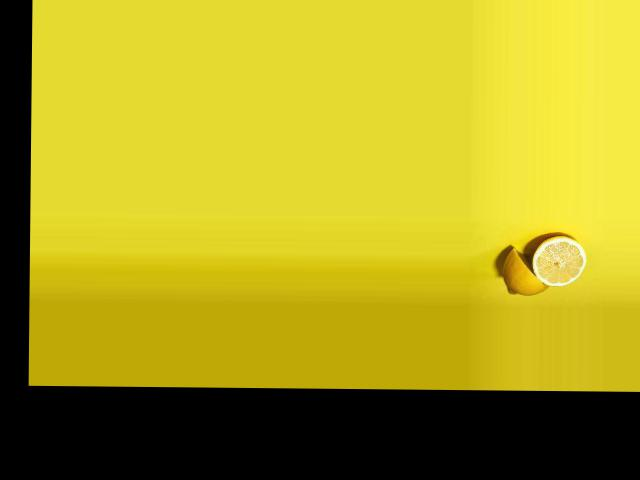lemon: (499, 240, 550, 296)
